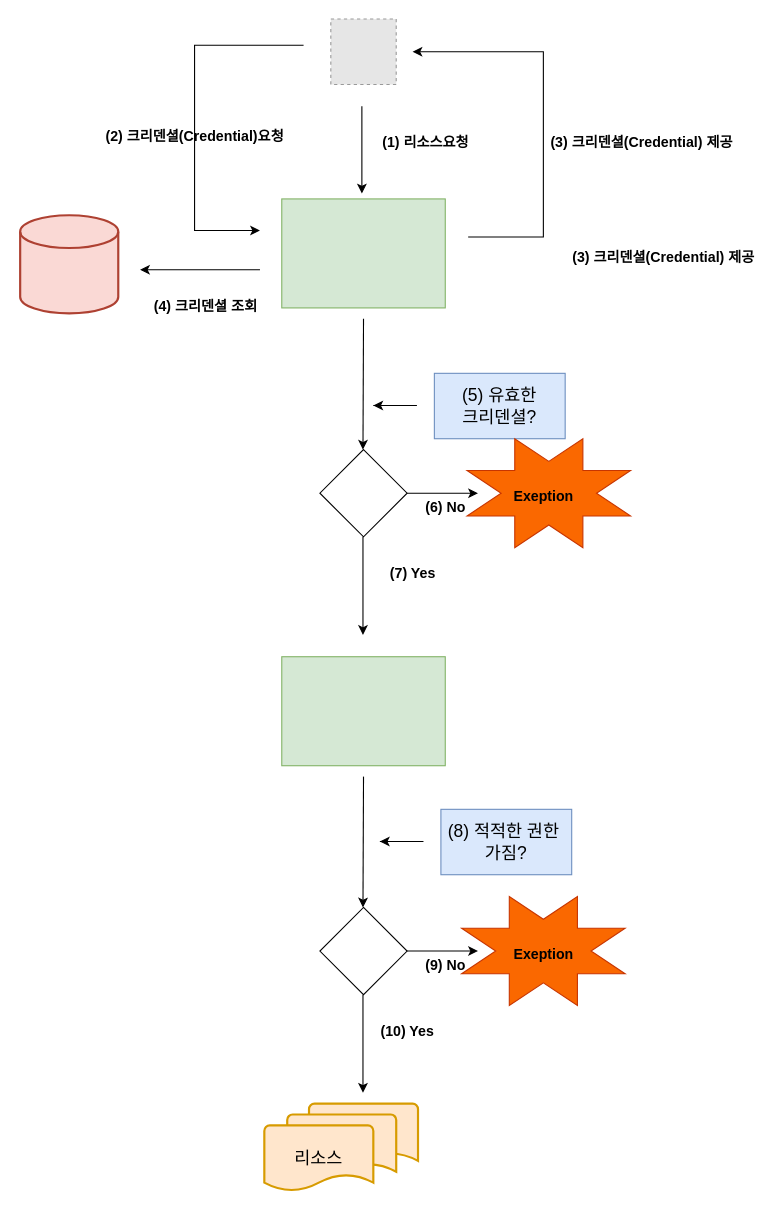
Some shapes in this 773 by 1211 pixel diagram are drawn without their labels. Grey dashed boxes stand in for pictures. The centre of each missing label's shape, as x and y in pixels:
인증 관리자: (363,253)
접근 결정 관리자: (363,711)
크리덴셜 저장소: (69,264)
